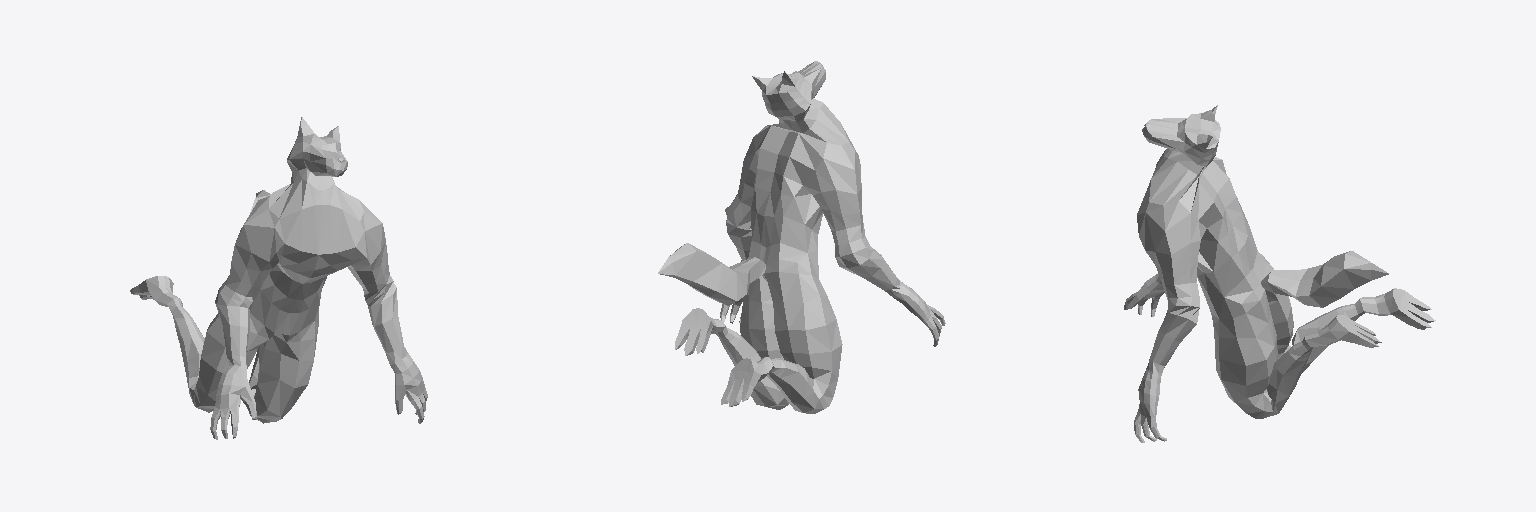
File: WolfDead(55).obj
The picture shows the model from 3 angles: view 1: azimuth 30°, elevation 25°; view 2: azimuth 150°, elevation 25°; view 3: azimuth 270°, elevation 25°; orthographic projection.
Visible parts, largest first — view 1: Box001; view 2: Box001; view 3: Box001.
Part boxes in pixels (left/top/right/bottom): Box001: left=130, top=117, right=427, bottom=439; Box001: left=658, top=61, right=945, bottom=413; Box001: left=1124, top=105, right=1435, bottom=442.
Bounding box in the file's own units: 83.93 × 118 × 105.